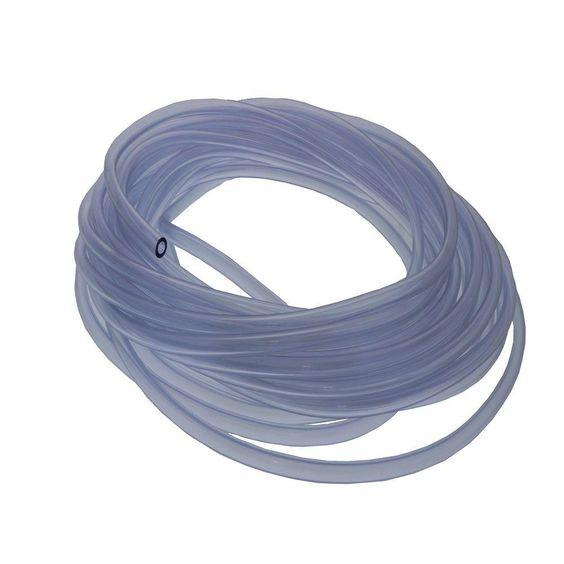PVC: (7, 47, 564, 515)
